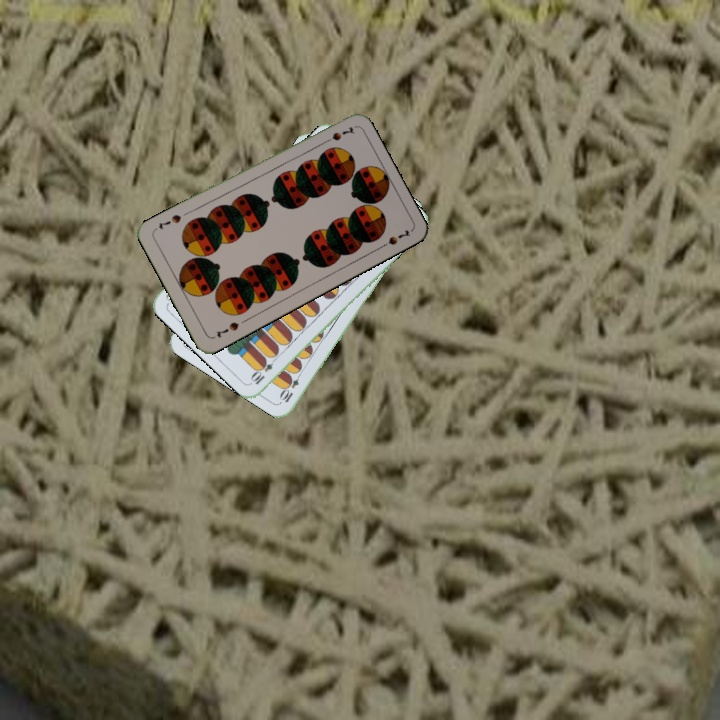E10: (247, 352, 280, 387), (277, 367, 305, 405)
S7: (212, 318, 241, 340), (318, 128, 344, 147)
